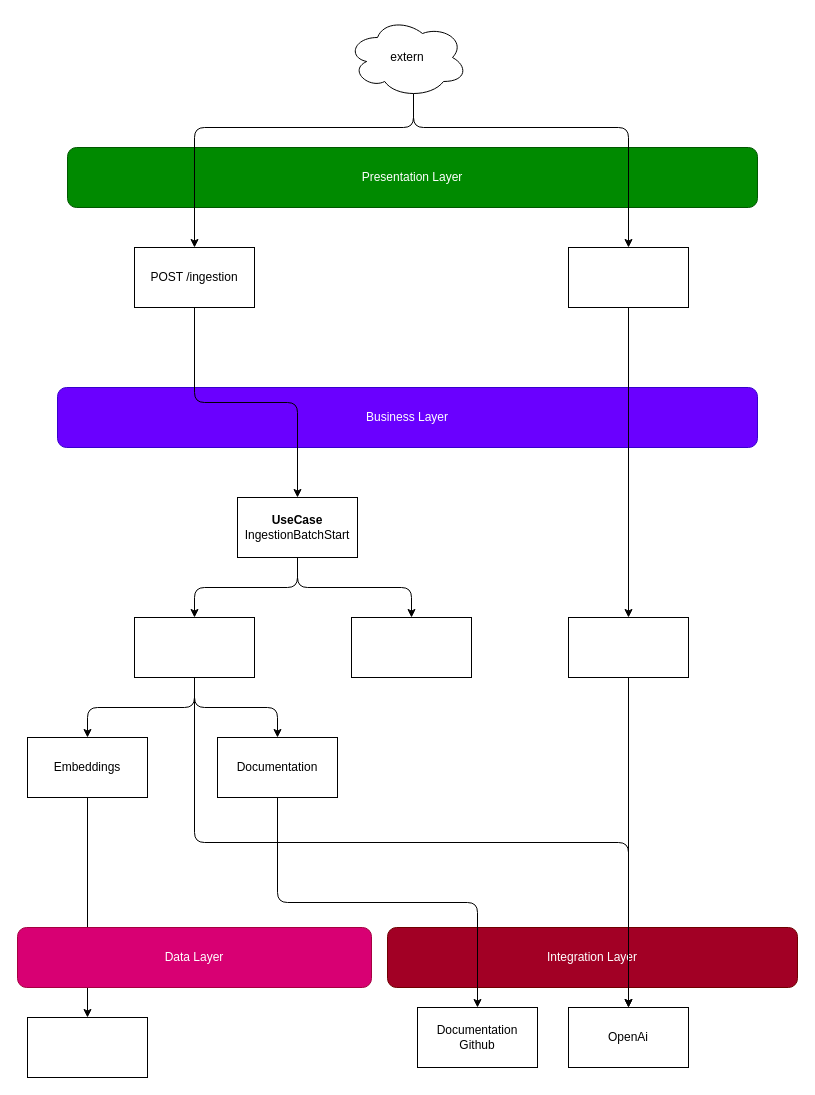
This 815x1095 diagram has some shape labels left out. The box of each missing label's shape, as (x1, y1, x2, y2) in pixels:
Assistant Service: (568, 616, 688, 678)
Documentation Service: (350, 616, 472, 678)
Embeddings Service: (134, 616, 254, 678)
POST /chat/completion: (568, 246, 688, 308)
Vector Store: (26, 1016, 148, 1078)
